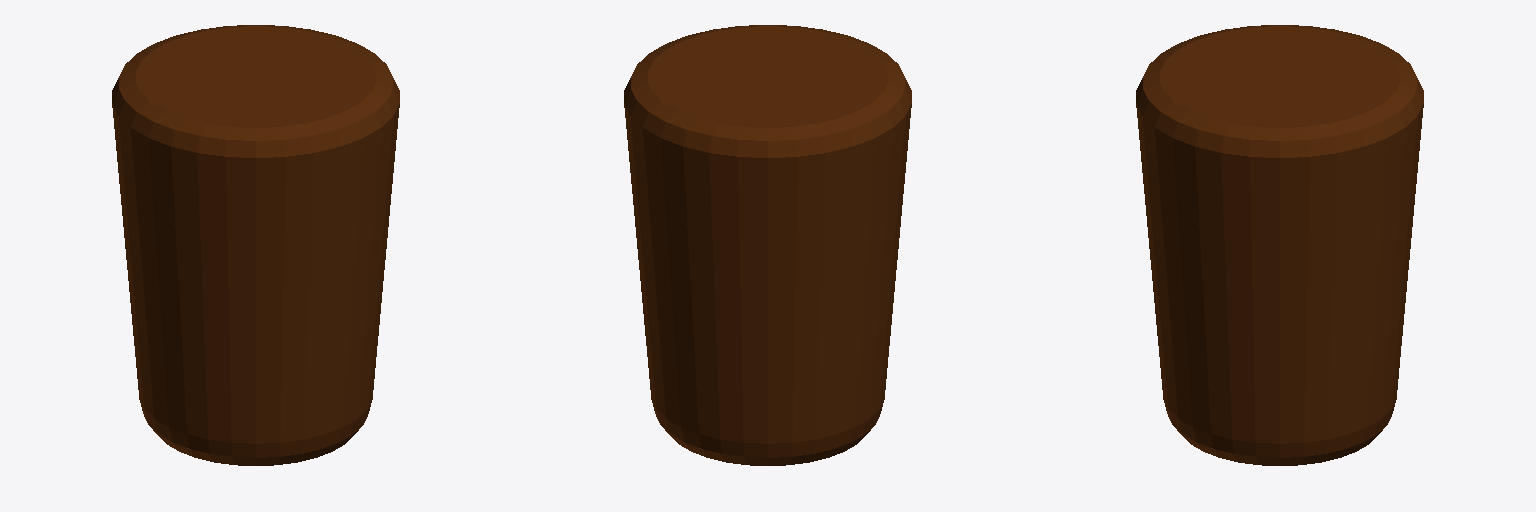
Rendered from Tea.obj.
3 views of the same model, side by side, from view 1: azimuth 30°, elevation 25°; view 2: azimuth 150°, elevation 25°; view 3: azimuth 270°, elevation 25° (orthographic).
Visible parts, largest first — view 1: Tea; view 2: Tea; view 3: Tea.
Boxes of the visible parts, x1=… form: Tea: x1=112, y1=25, x2=399, y2=465; Tea: x1=624, y1=25, x2=911, y2=465; Tea: x1=1136, y1=25, x2=1423, y2=465.
Size of the model in its own units: 8.63 by 11.78 by 8.58.